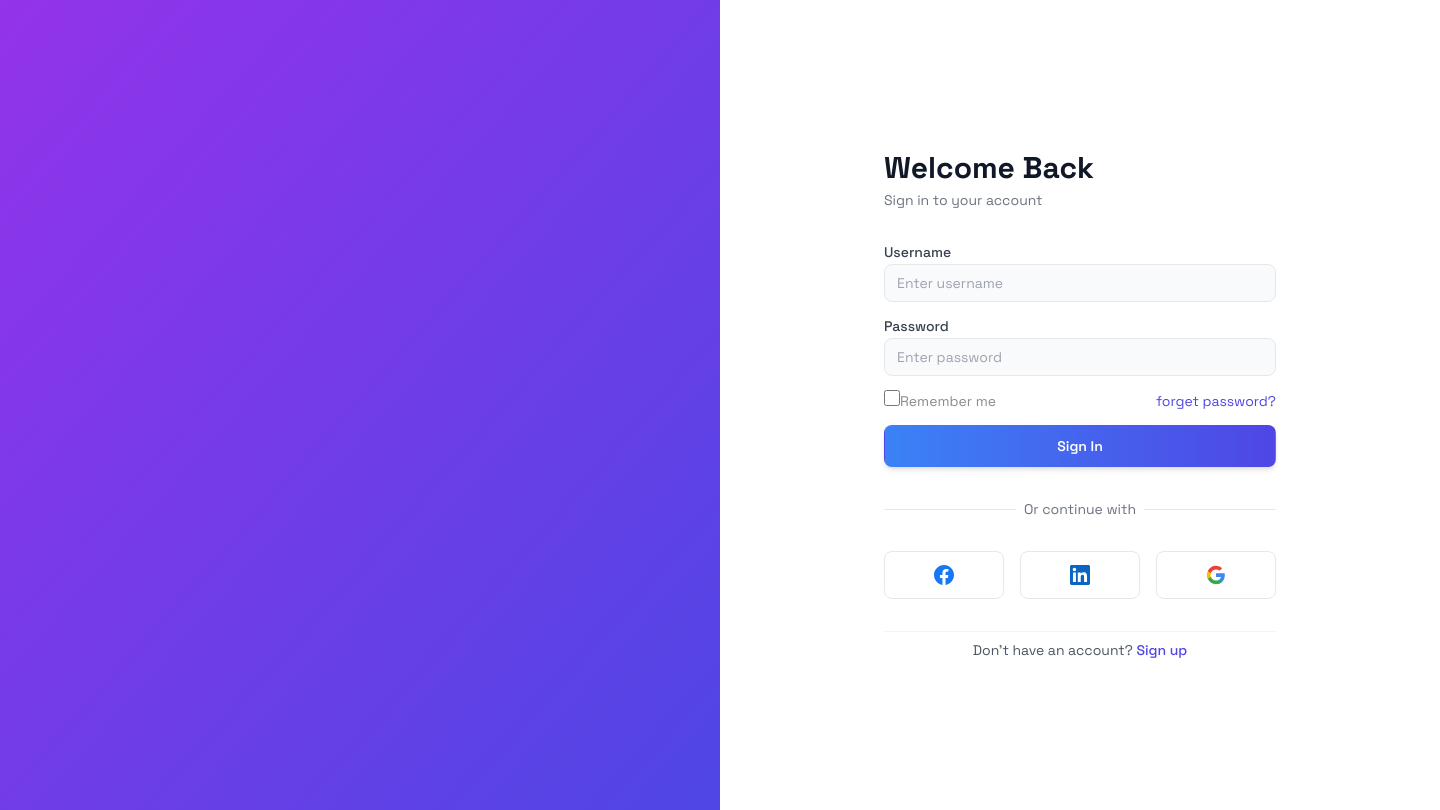
Test: LoginPage › displays error message on failed login
In the field labelled "Username": point(1080, 283) left=884, top=264, right=1276, bottom=302, type "admin"
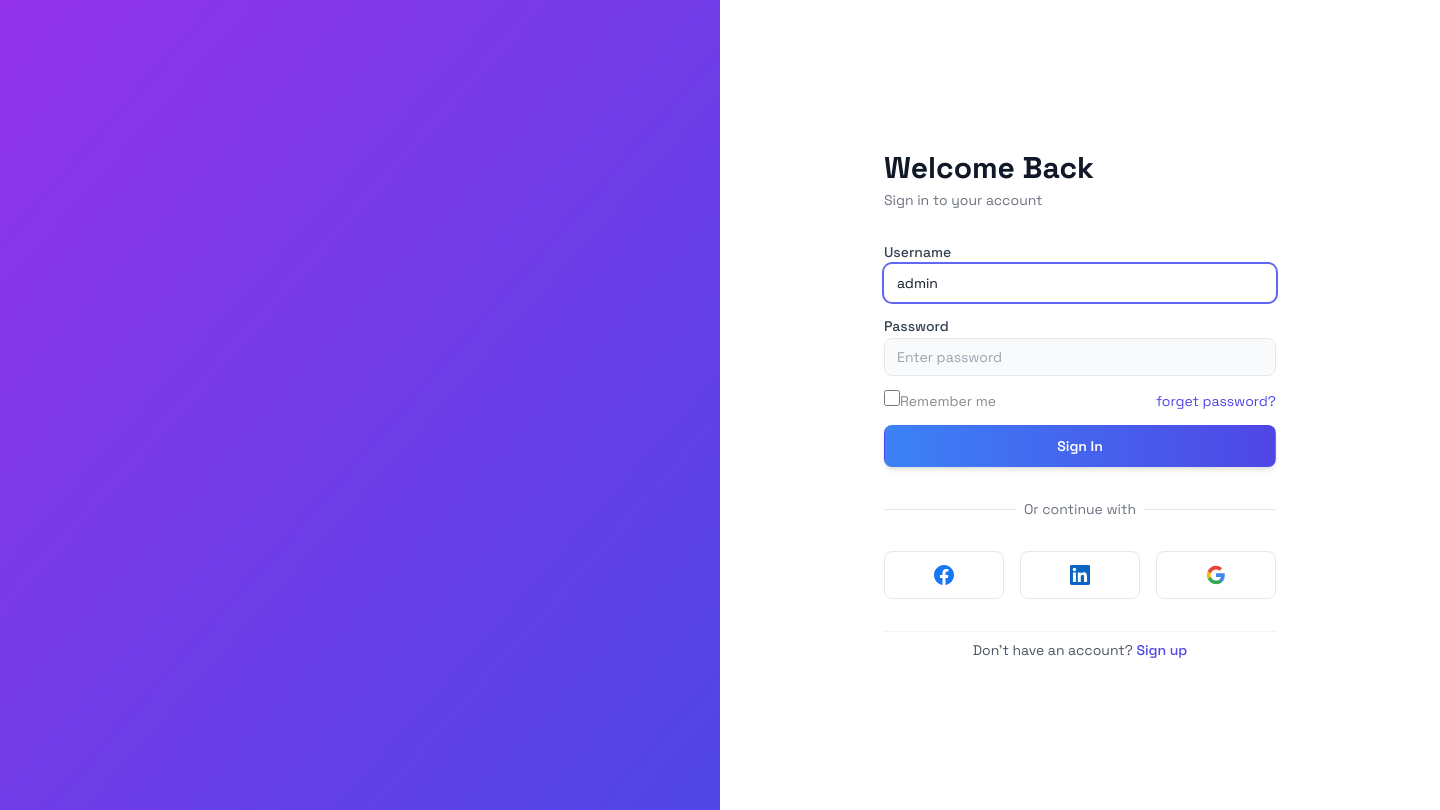
In the password field labelled "Password": point(1080, 357) left=884, top=338, right=1276, bottom=376, type "wrongpassword"
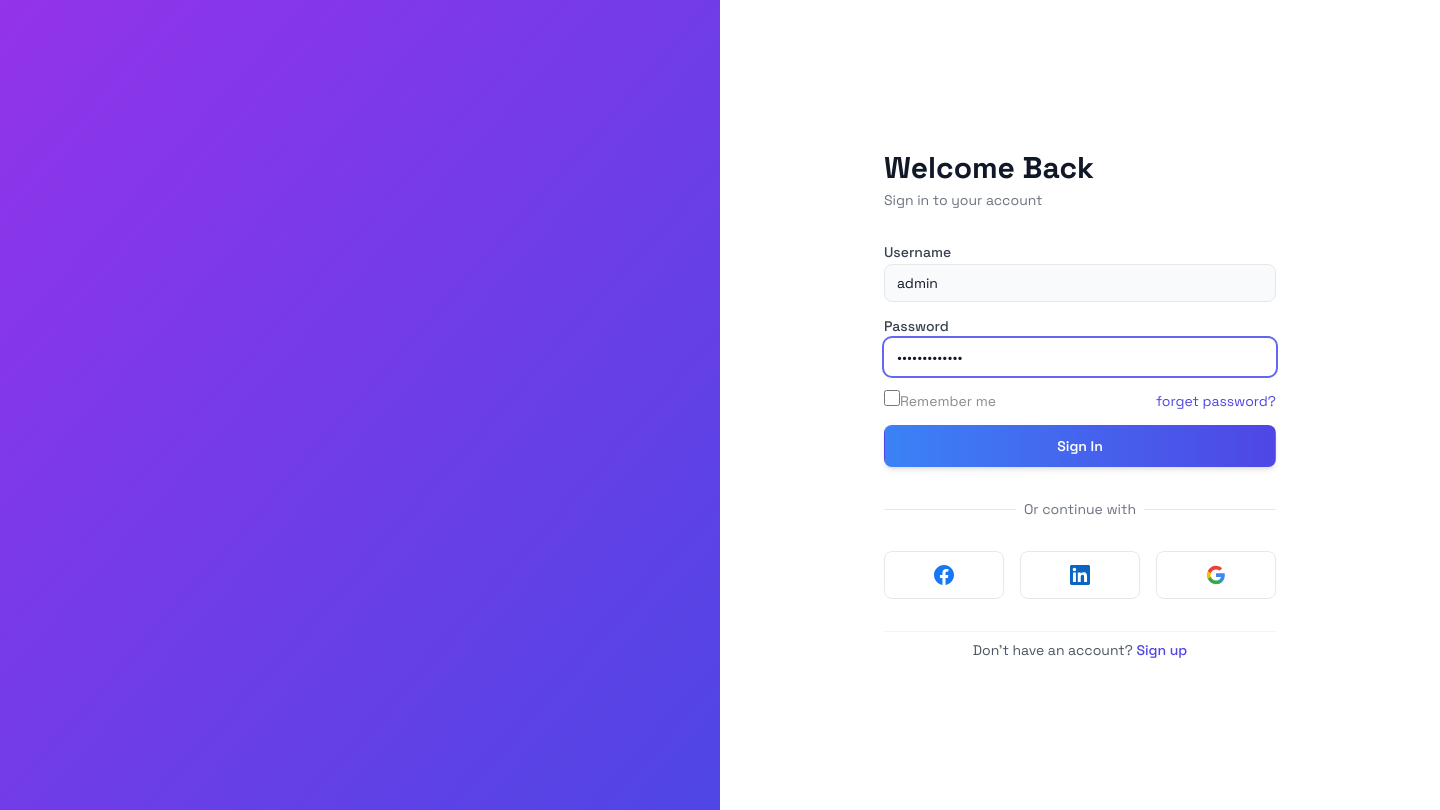
Click the button "Sign In": point(1080, 446) left=884, top=425, right=1276, bottom=467
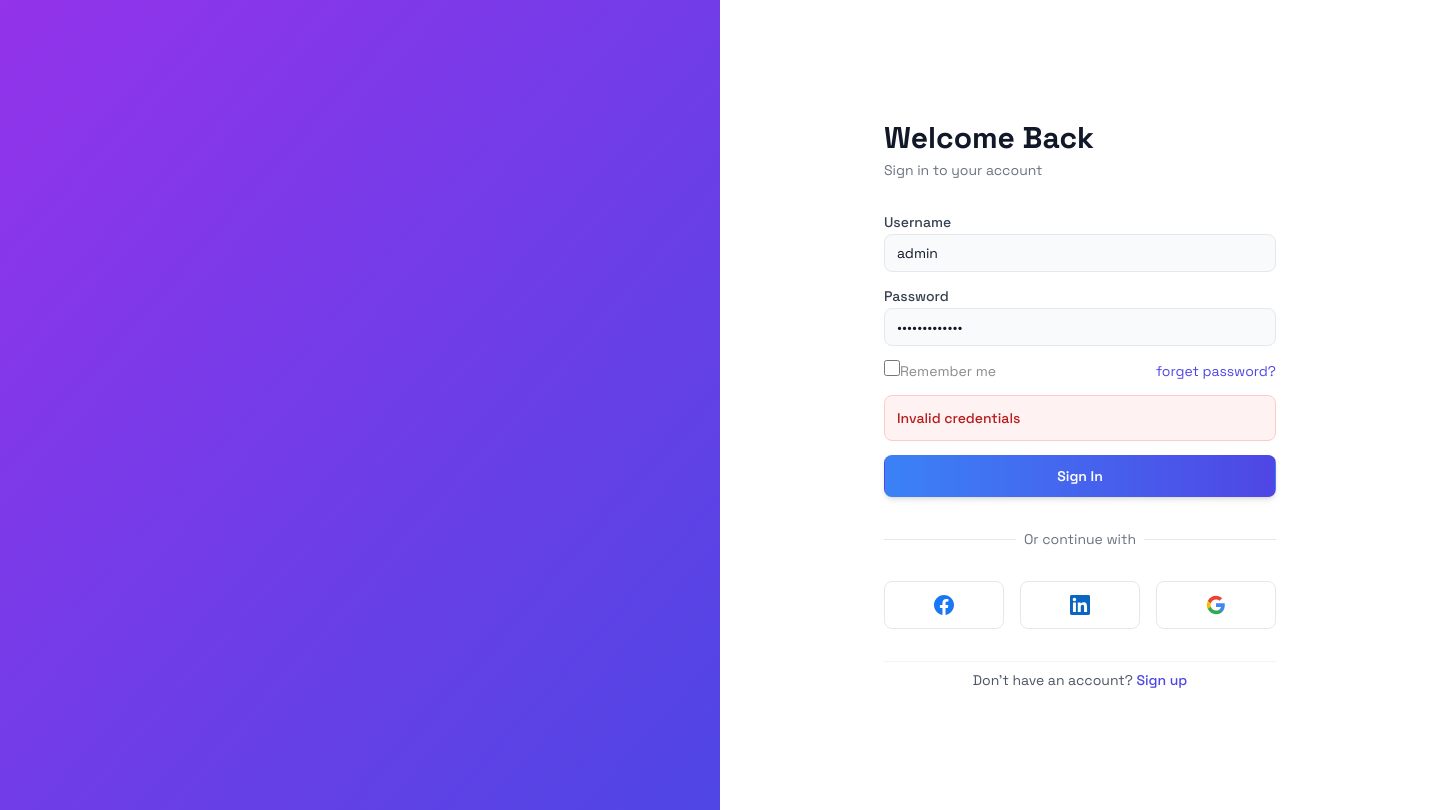
Now the text "Invalid credentials" is shown, box left=884, top=395, right=1276, bottom=441
